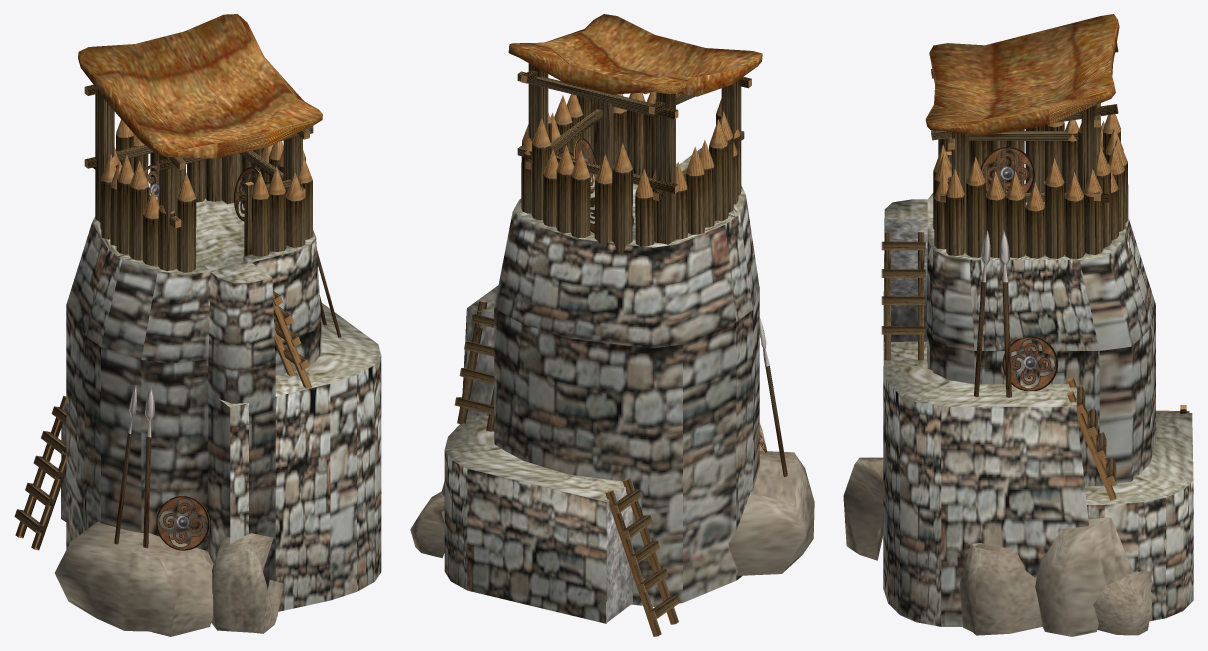
Rendered from new_d_tower.dae.
The picture shows the model from 3 angles, left to right: view 1: azimuth 30°, elevation 25°; view 2: azimuth 150°, elevation 25°; view 3: azimuth 270°, elevation 25°; orthographic projection. The views are drawn at different scales.
Parts seen in each view (by area): view 1: lusi_d_tower; view 2: lusi_d_tower; view 3: lusi_d_tower.
Boxes of the visible parts, x1=… form: lusi_d_tower: x1=14, y1=14, x2=381, y2=636; lusi_d_tower: x1=410, y1=14, x2=814, y2=636; lusi_d_tower: x1=843, y1=14, x2=1193, y2=636.
Size of the model in its own units: 13.89 by 13.04 by 21.14.
